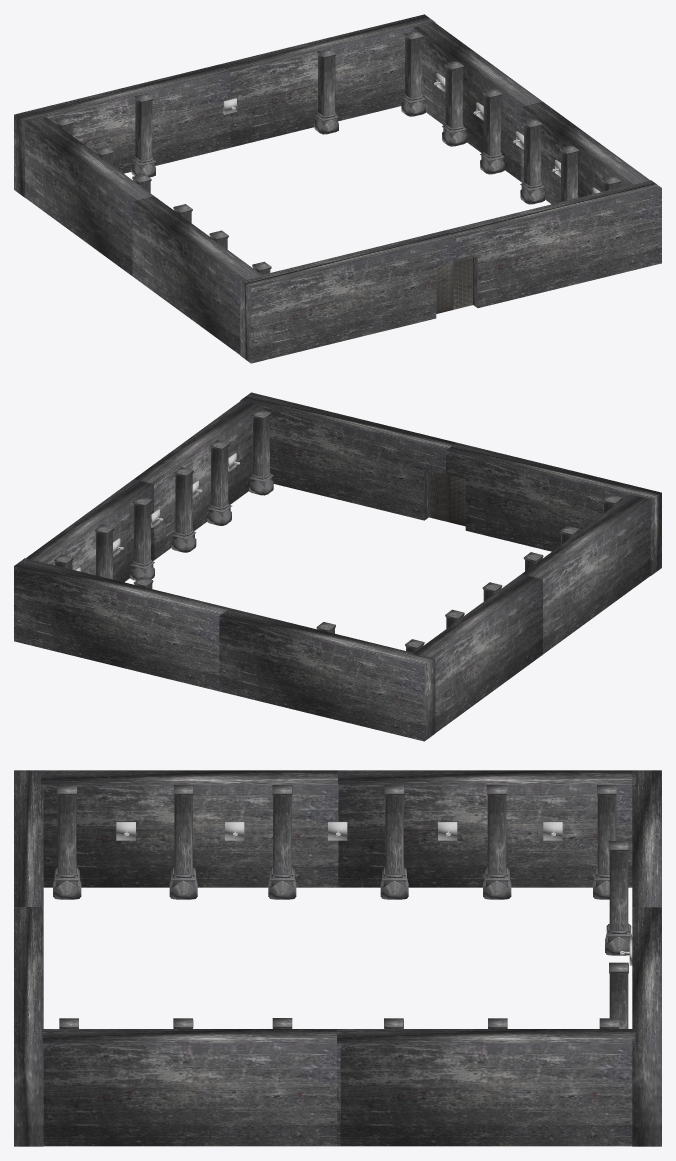
The model's file is hab_tomb2.fbx.
3 renders of one model, top to bottom at view 1: azimuth 30°, elevation 25°; view 2: azimuth 150°, elevation 25°; view 3: azimuth 270°, elevation 25°, orthographic. The views are drawn at different scales.
Visible parts, largest first — view 1: Cube_002, Cube_000, Cylinder_013, Cylinder_000, Cylinder_020, Cylinder_016, Cylinder_001, Cylinder_002, column_011, column_000, column_012, column_003 (+5 smaller); view 2: Cylinder_000, Cylinder_013, Cube_000, Cube_002, Cylinder_016, Cylinder_020, Cylinder_002, Cylinder_001, column_001, column_012, column_013, column_000 (+3 smaller); view 3: Cylinder_002, Cylinder_001, Cylinder_020, Cylinder_016, Cube_000, Cylinder_013, Cylinder_000, Cube_002, column_006, column_015, column_007, column_008 (+4 smaller).
Boxes of the visible parts, box(x1,y1,x2,y2) form: Cube_002: box(240, 230, 456, 363); Cube_000: box(445, 180, 661, 307); Cylinder_013: box(220, 14, 435, 147); Cylinder_000: box(14, 64, 230, 197); Cylinder_020: box(132, 196, 262, 354); Cylinder_016: box(24, 117, 153, 276); Cylinder_001: box(413, 21, 542, 181); Cylinder_002: box(521, 101, 650, 204); column_011: box(442, 61, 466, 146); column_000: box(480, 88, 504, 174); column_012: box(520, 118, 544, 204); column_003: box(314, 49, 338, 134); Cylinder_000: box(219, 608, 435, 741); Cylinder_013: box(14, 558, 229, 691); Cube_000: box(240, 392, 456, 520); Cube_002: box(446, 442, 661, 575); Cylinder_016: box(413, 574, 542, 732); Cylinder_020: box(521, 494, 651, 654); Cylinder_002: box(134, 400, 262, 559); Cylinder_001: box(26, 479, 155, 582); column_001: box(249, 409, 273, 495); column_012: box(171, 467, 196, 552); column_013: box(207, 440, 231, 525); column_000: box(130, 496, 154, 580); Cylinder_002: box(42, 1029, 340, 1146); Cylinder_001: box(337, 1029, 635, 1146); Cylinder_020: box(40, 770, 338, 887); Cylinder_016: box(338, 770, 635, 887); Cube_000: box(14, 907, 43, 1146); Cylinder_013: box(632, 907, 661, 1146); Cylinder_000: box(632, 770, 661, 907); Cube_002: box(14, 770, 43, 906); column_006: box(483, 785, 511, 899); column_015: box(53, 785, 81, 899); column_007: box(380, 785, 408, 899); column_008: box(169, 785, 197, 899).
Size of the model in its own units: 199 by 35.5 by 199.
